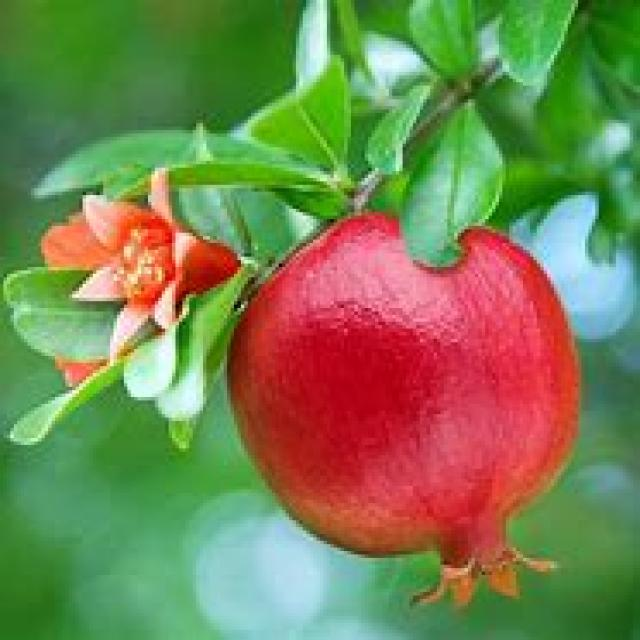Pomegranate: (225, 211, 578, 609)
